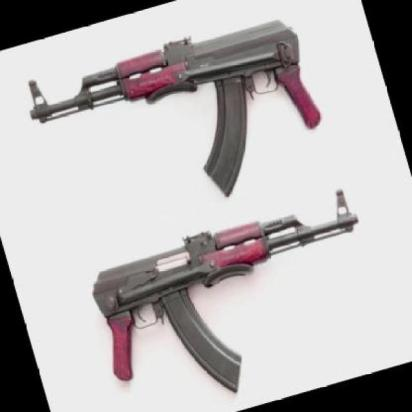Gun: (75, 186, 368, 389)
